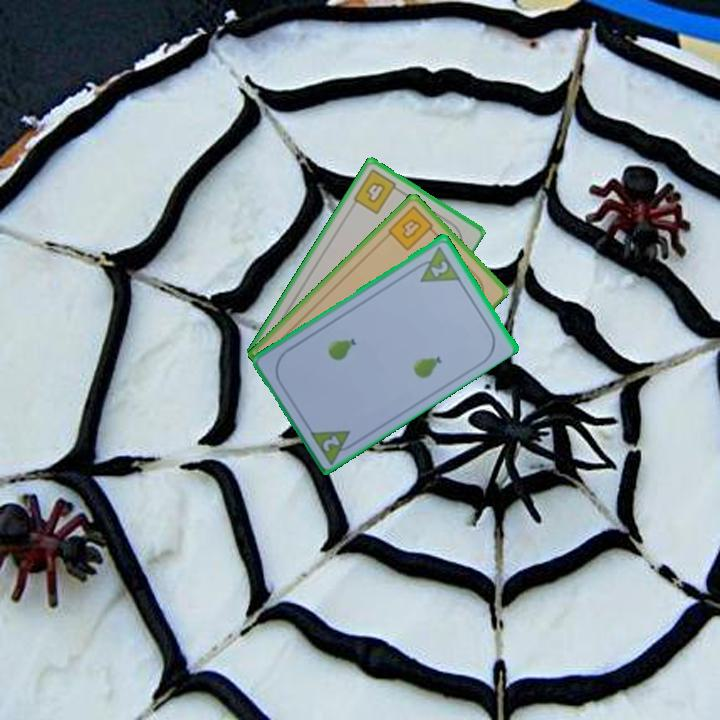2p: (410, 242, 462, 285), (319, 431, 343, 454)
4b: (349, 165, 404, 217), (384, 202, 439, 253)
